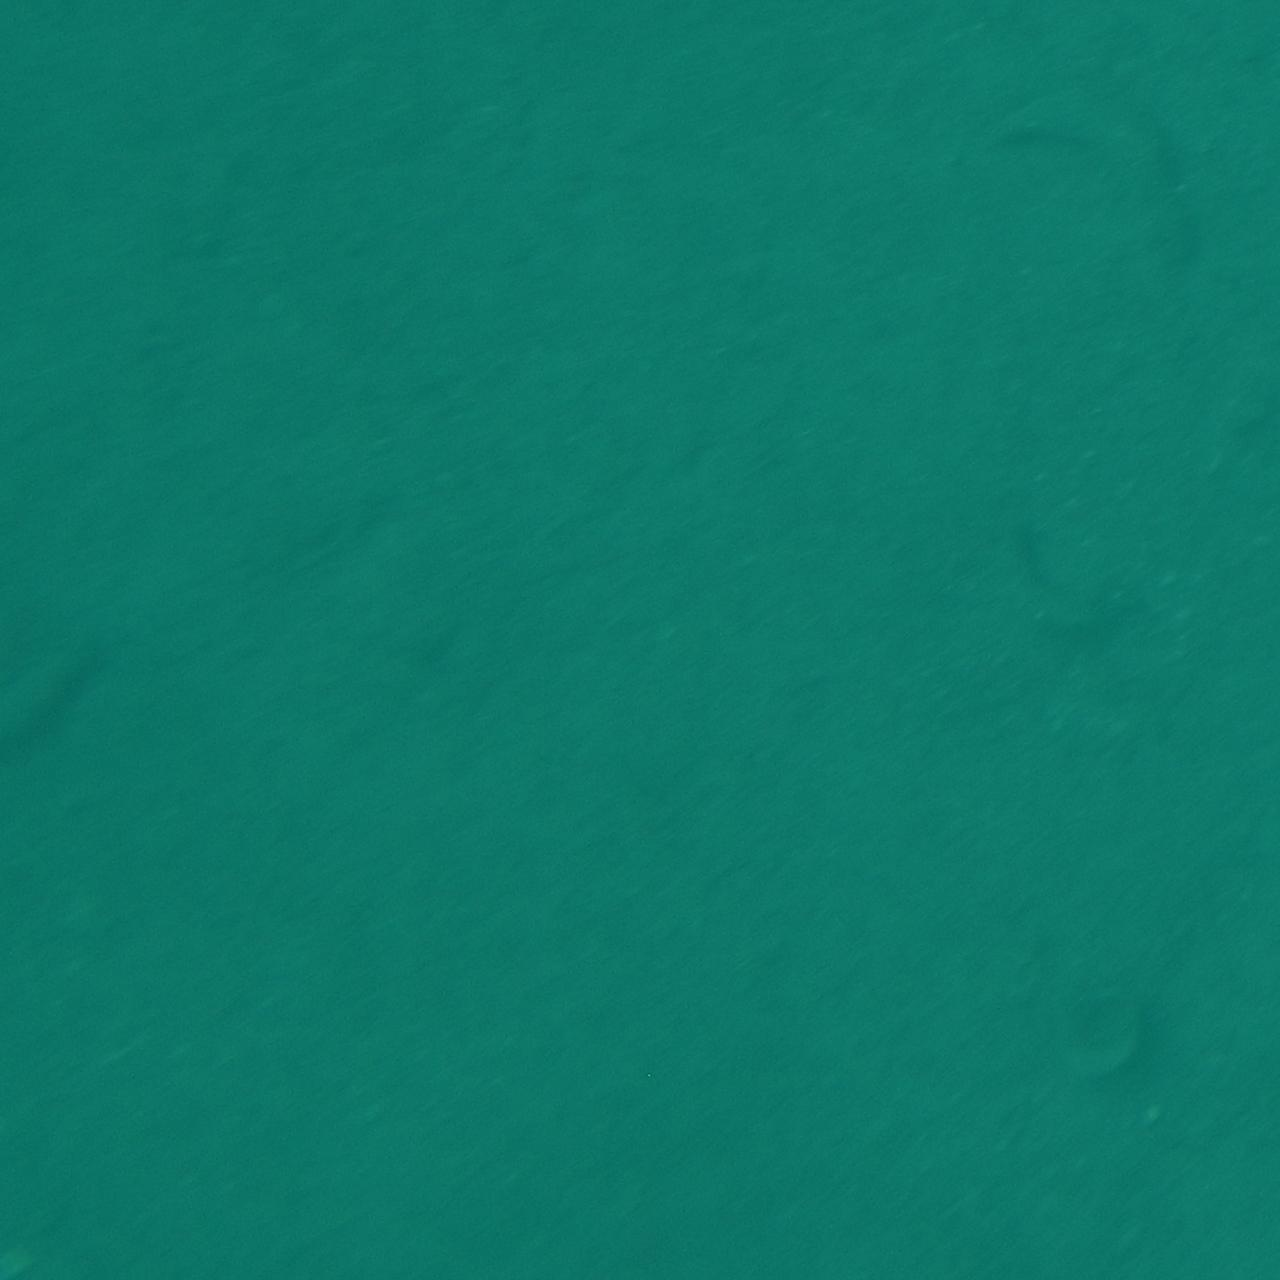Holothuria tubulosa: (0, 605, 141, 809)
